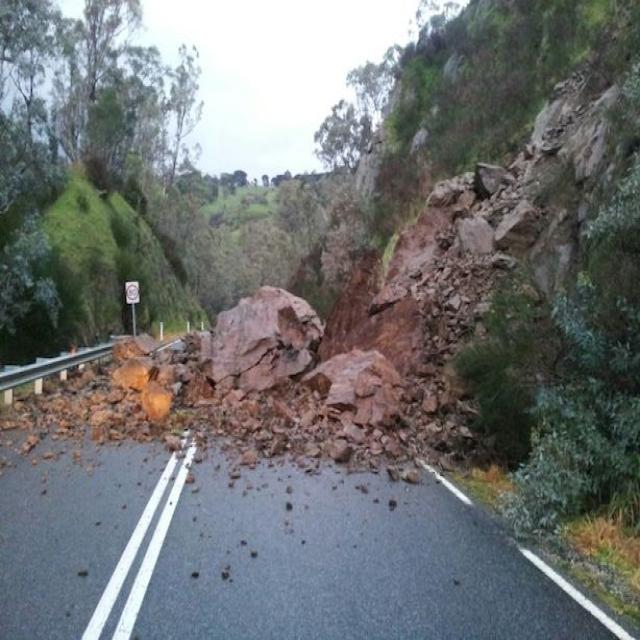road block: (106, 289, 452, 454)
